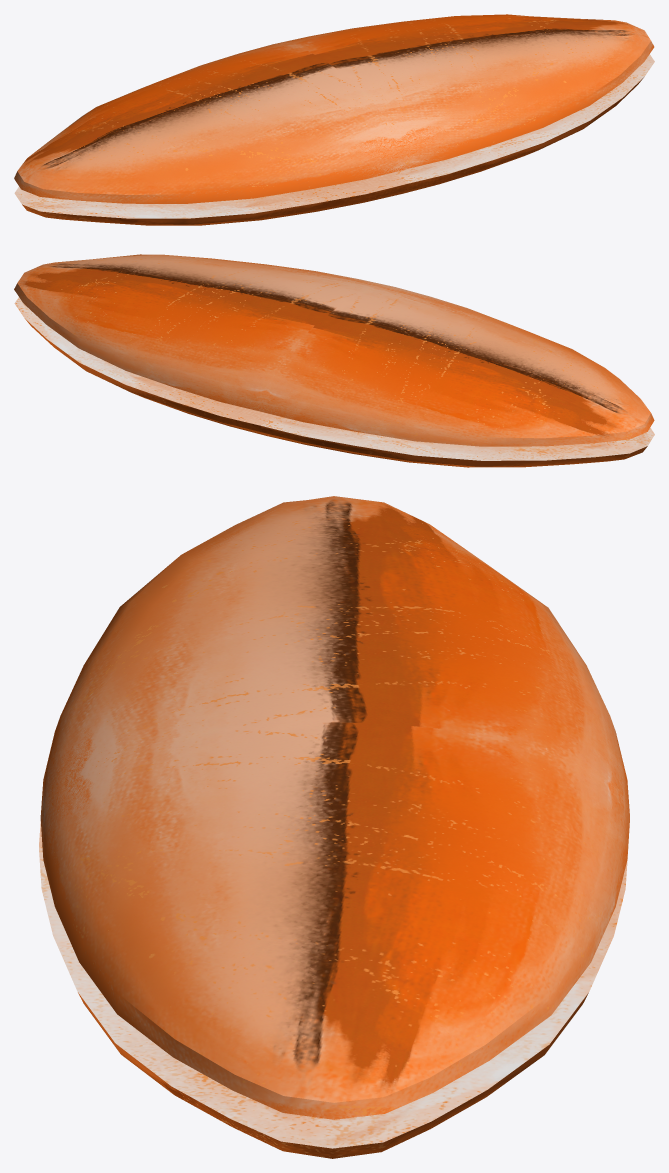
The model's file is ekmek_tam_basilmis.fbx.
3 views of the same model, one above another, from view 1: azimuth 30°, elevation 25°; view 2: azimuth 150°, elevation 25°; view 3: azimuth 270°, elevation 25° (orthographic). The views are drawn at different scales.
Visible parts, largest first — view 1: Sphere.003, Sphere.008; view 2: Sphere.003, Sphere.008; view 3: Sphere.003, Sphere.008.
Part boxes in pixels (x1,y1,x2,y2): Sphere.003: [14, 14, 654, 203]; Sphere.008: [14, 54, 654, 225]; Sphere.003: [14, 254, 654, 446]; Sphere.008: [14, 297, 654, 467]; Sphere.003: [40, 496, 629, 1119]; Sphere.008: [39, 821, 628, 1158].
Size of the model in its own units: 291 by 39.32 by 119.
